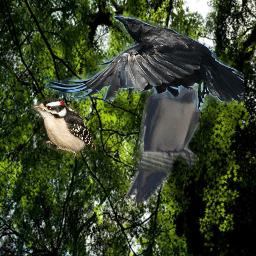Crow: (43, 14, 244, 112)
Swallow: (125, 60, 201, 204)
Woodpecker: (29, 98, 98, 159)
